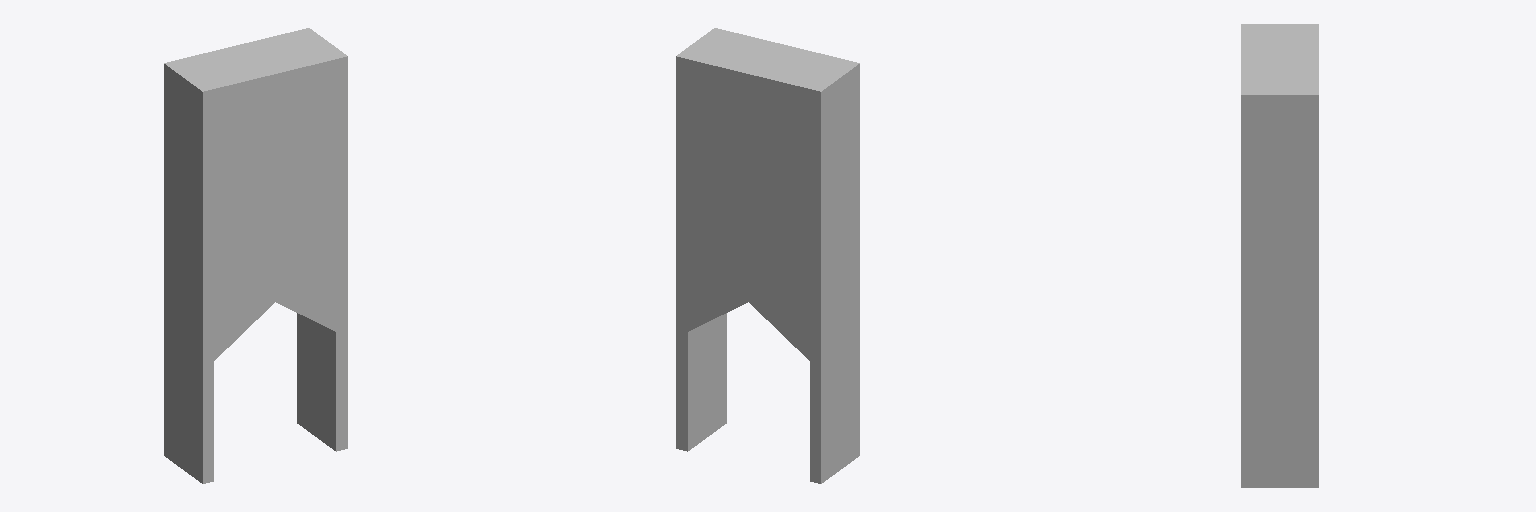
File: DoorFrameTwoWall.obj
3 renders of one model, left to right at view 1: azimuth 30°, elevation 25°; view 2: azimuth 150°, elevation 25°; view 3: azimuth 270°, elevation 25°, orthographic.
Visible parts, largest first — view 1: DoorFrameWall; view 2: DoorFrameWall; view 3: DoorFrameWall.
Part boxes in pixels (x1,y1,x2,y2): DoorFrameWall: (164, 28, 347, 483); DoorFrameWall: (676, 28, 859, 483); DoorFrameWall: (1241, 24, 1318, 487).
Size of the model in its own units: 9.94 by 25.63 by 4.62.